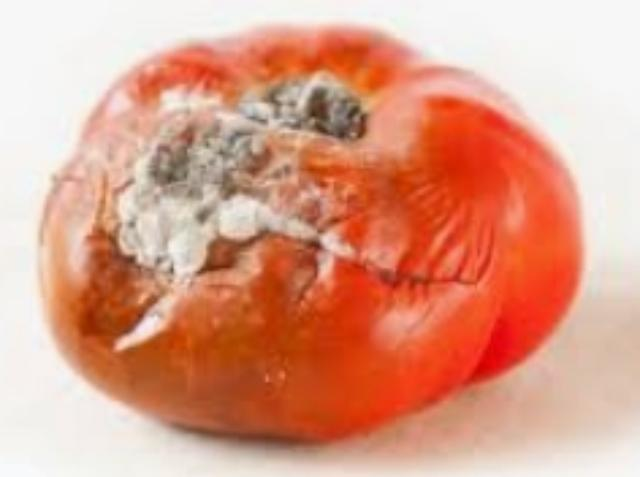defect: (31, 15, 594, 445)
